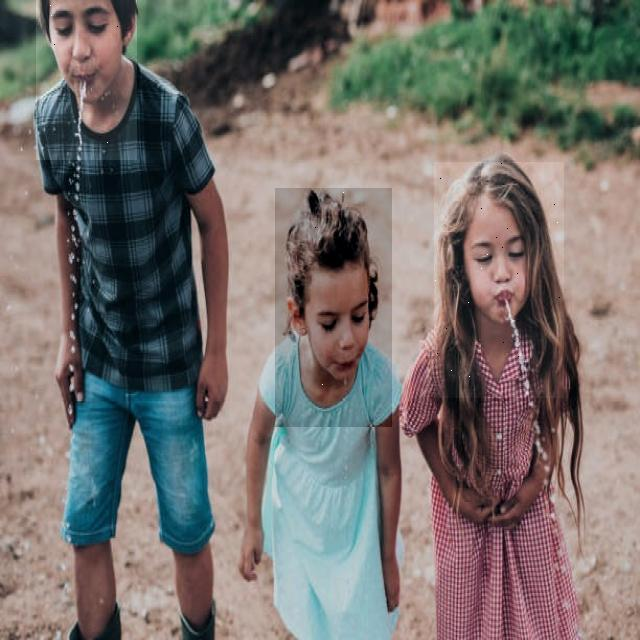Spitting: (434, 162, 564, 398), (276, 188, 394, 427), (36, 0, 137, 160)
